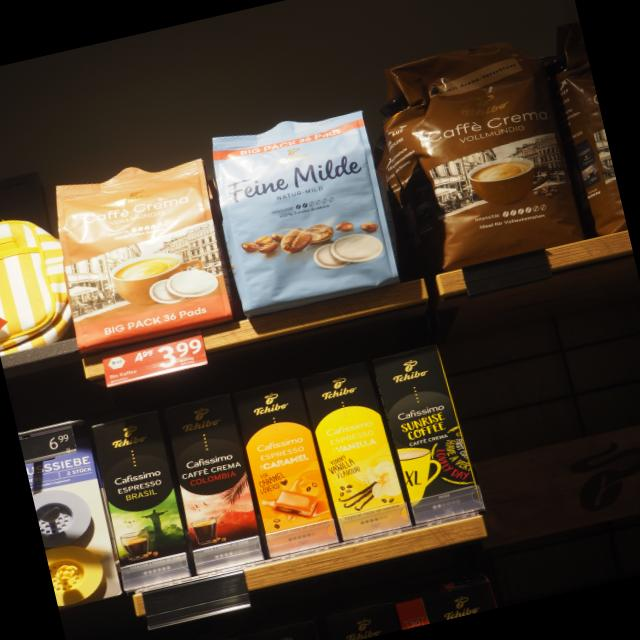CC Vollmundig: (35, 144, 244, 356)
CC Vollmundig 36 Pads: (358, 25, 594, 282)
FM 36 Pads: (198, 100, 404, 322)
Simo CC Colombia: (159, 392, 266, 576)
Simo Es Brazil: (88, 408, 195, 591)
Simo Es Caramel: (230, 376, 341, 560)
Simo Es Vanilla: (299, 359, 414, 543)
Simo Sunrise: (369, 341, 488, 526)
